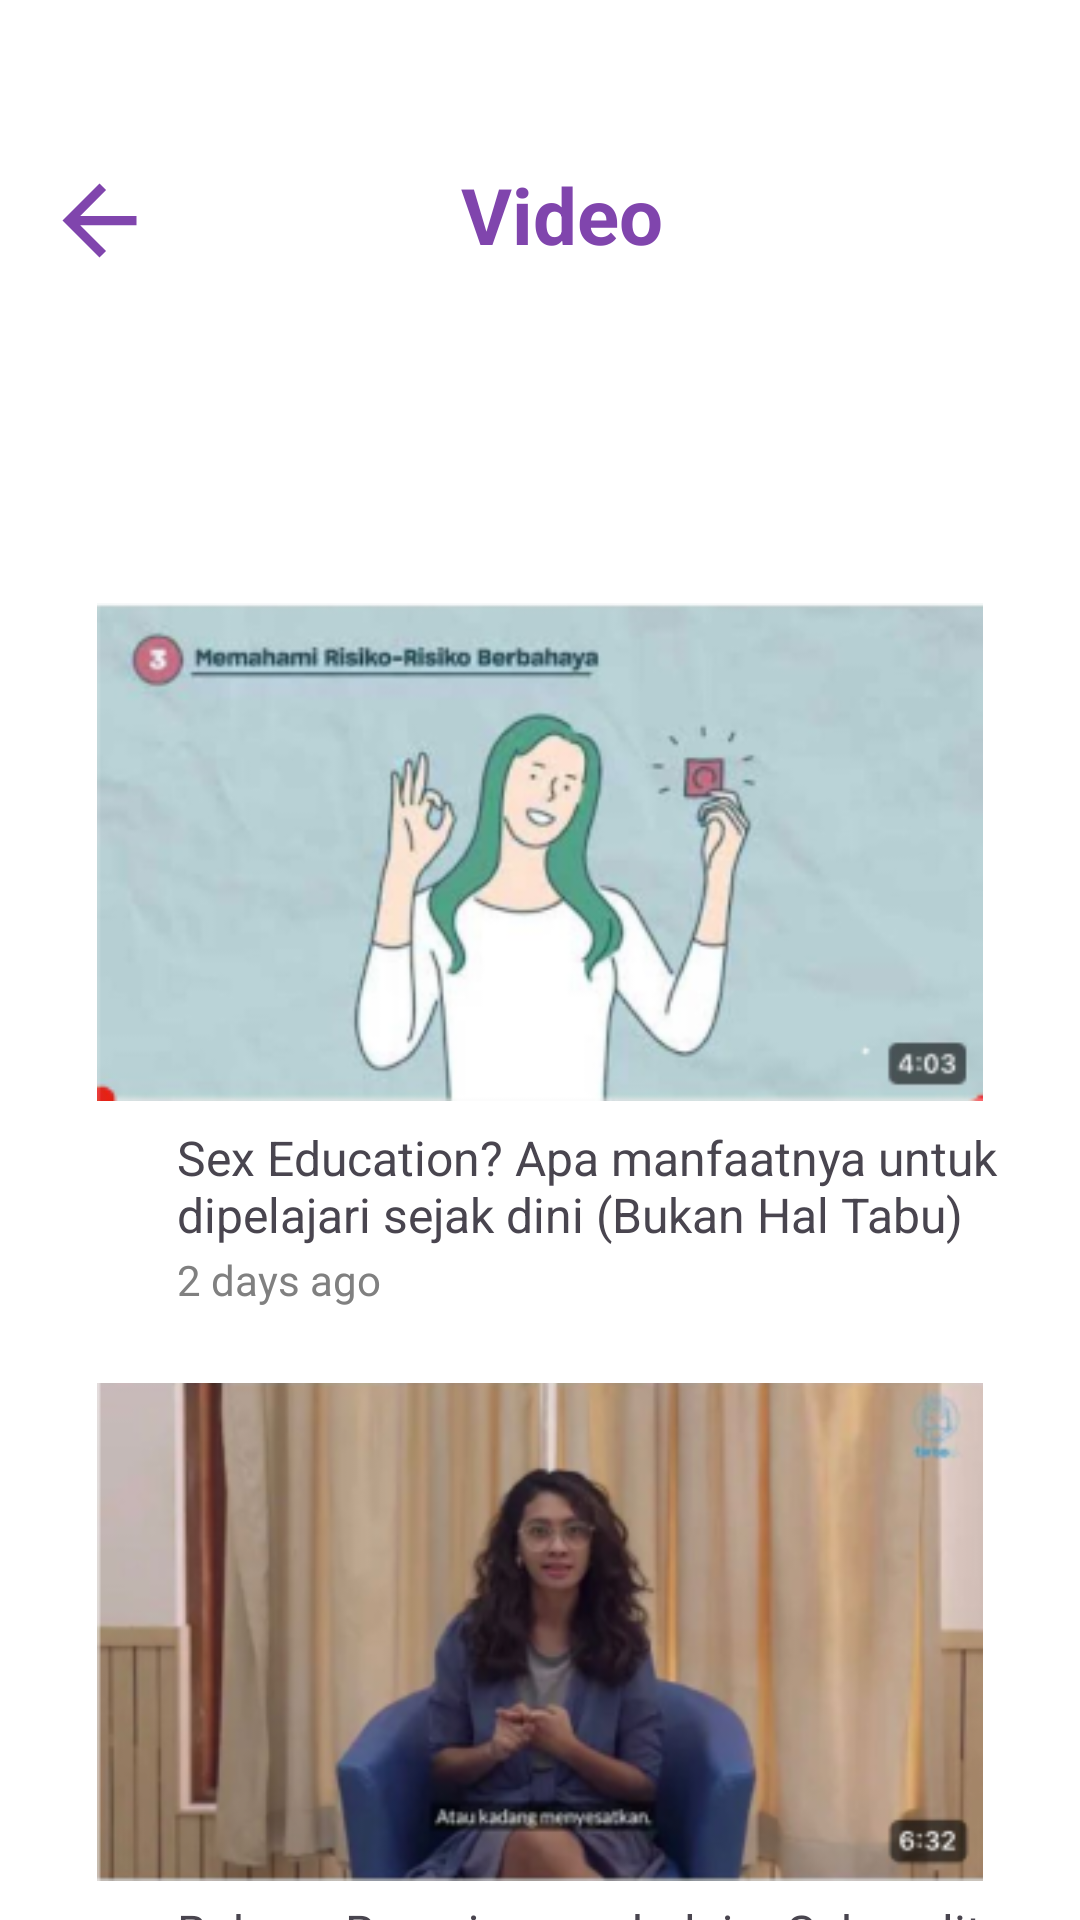

Icons on this 1080px x 1920px Android screen, each with the point to tap as (x=x, y=y):
arrow back: (x=99, y=220)
